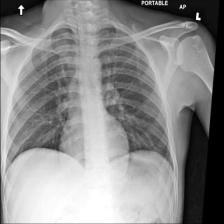normal: (3, 21, 177, 174)
